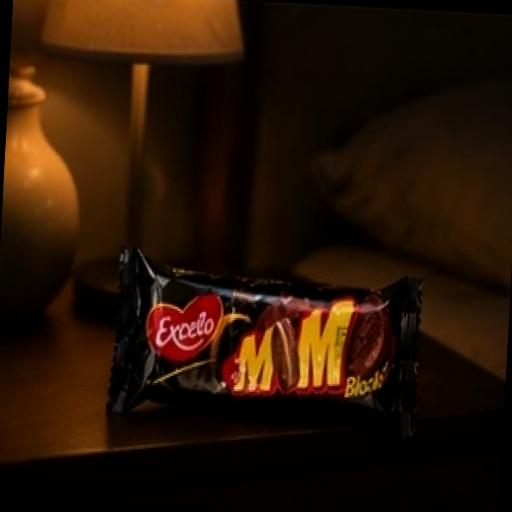MOMO: (57, 193, 493, 512)
